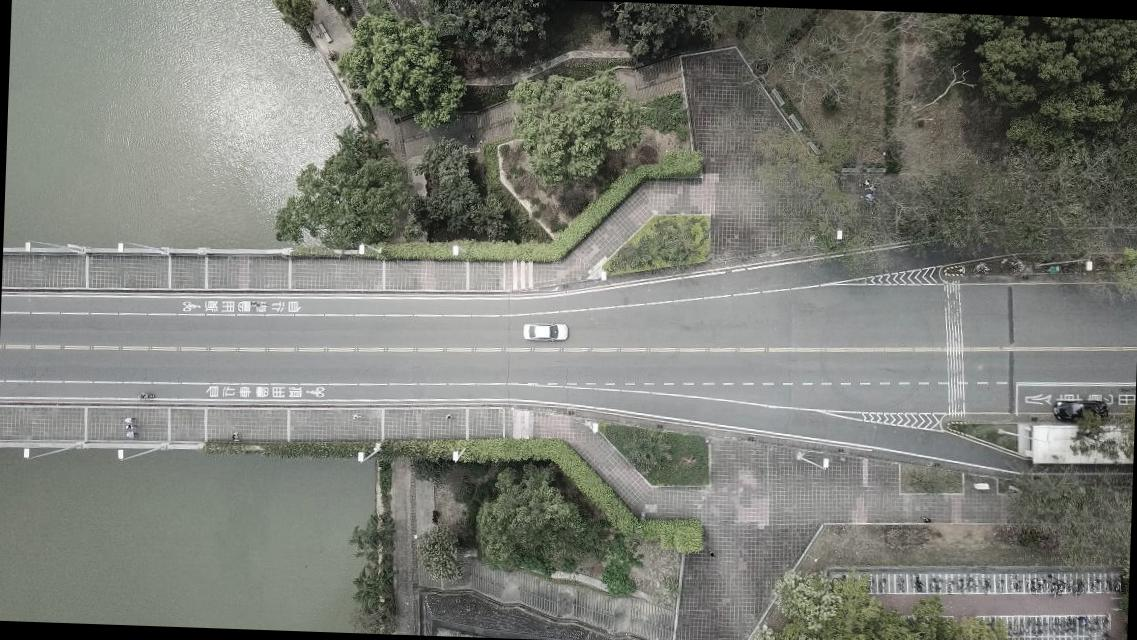vehicle: (1052, 398, 1108, 423), (521, 320, 568, 342)
